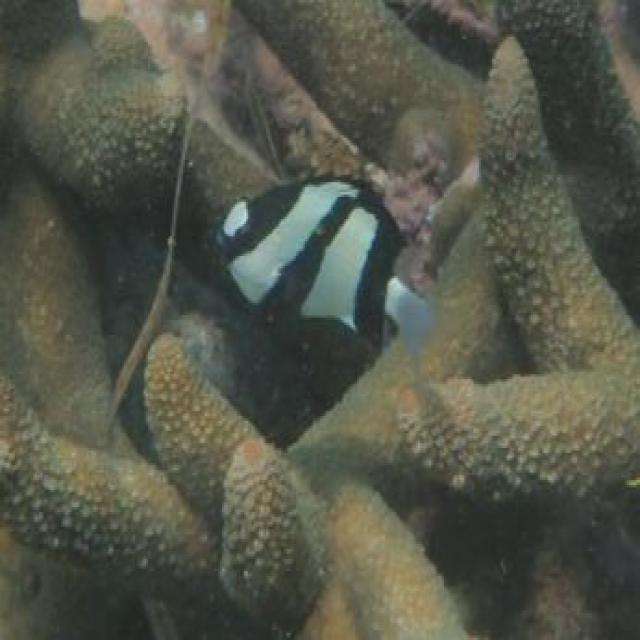Three_striped DasmselFish: (214, 166, 440, 360)
